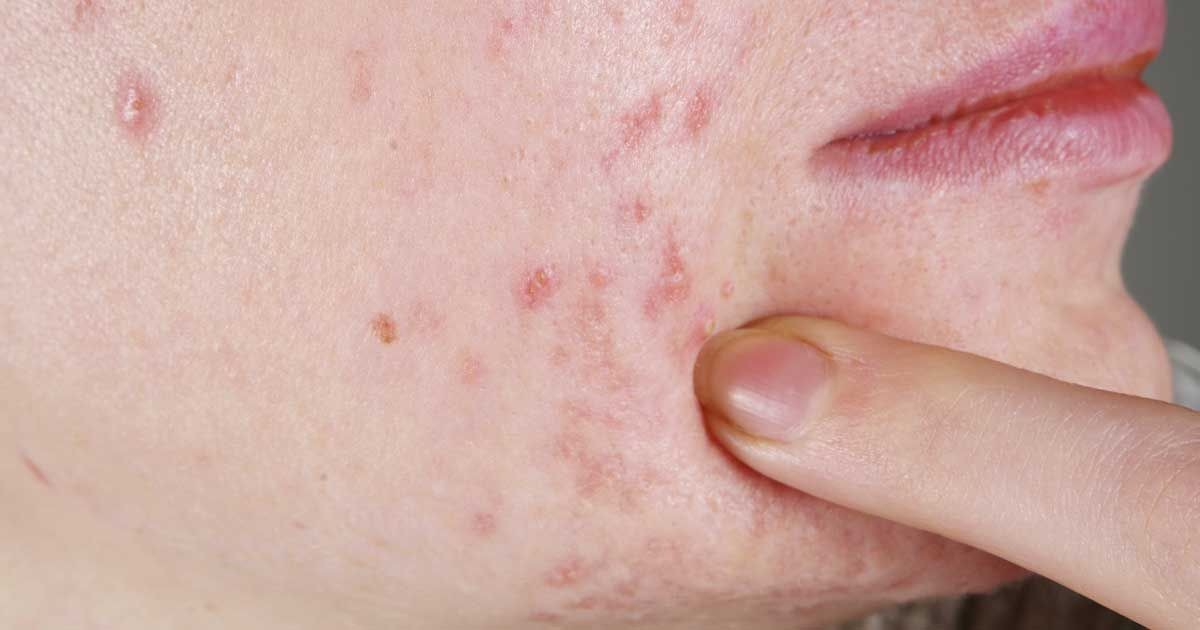Acne: (16, 12, 817, 563)
